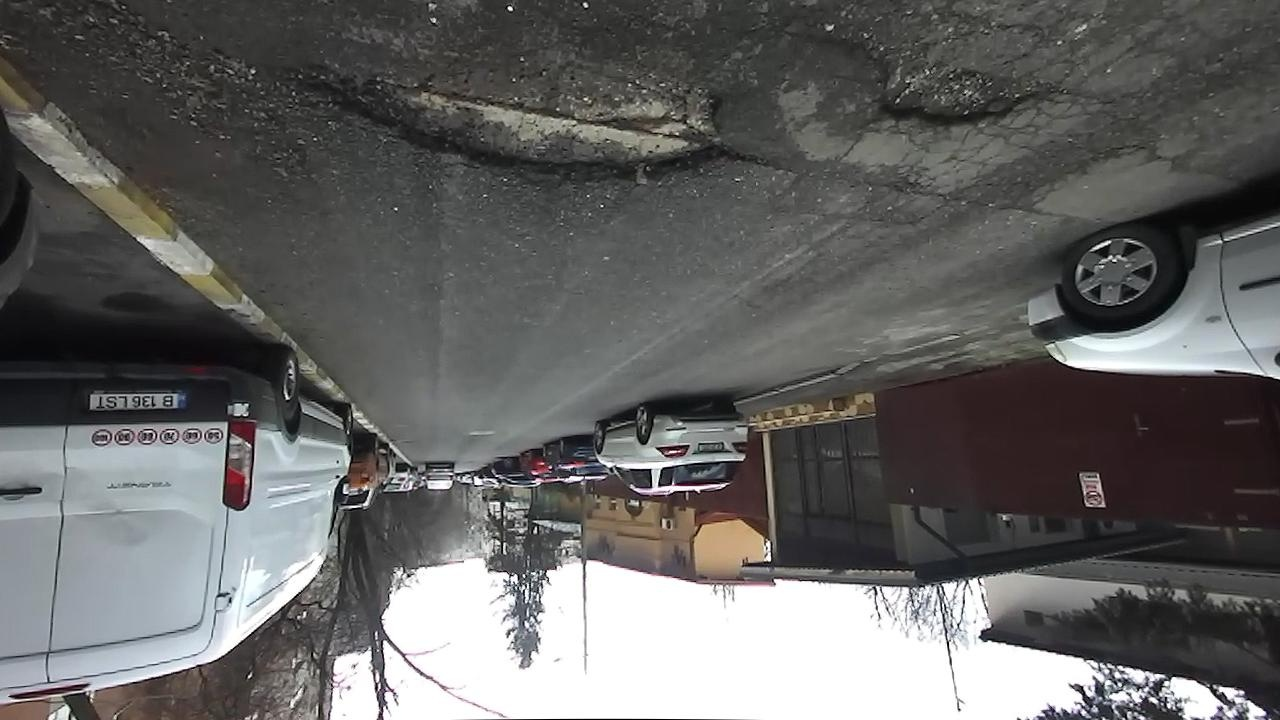pothole: (275, 51, 758, 193), (853, 36, 1065, 130)
